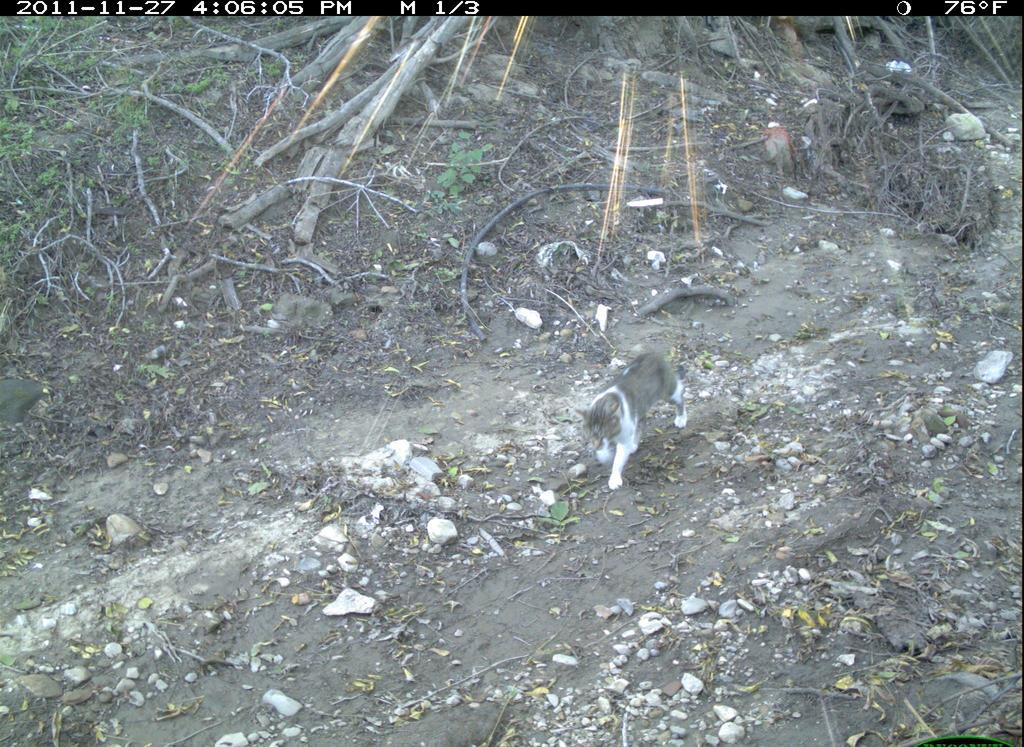cat: (568, 324, 703, 513)
